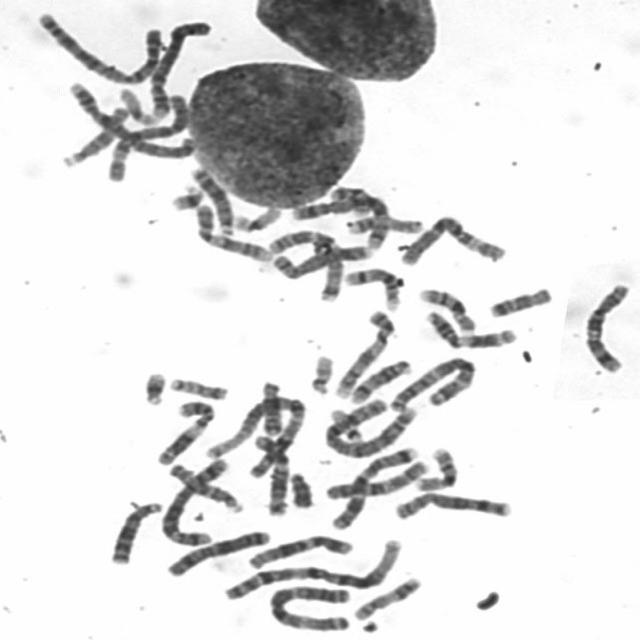A1: (219, 533, 408, 603), (200, 392, 310, 467)
A2: (30, 6, 165, 86), (321, 396, 418, 459)
A3: (384, 351, 481, 413), (264, 580, 354, 633)
B4: (63, 77, 199, 161), (142, 15, 214, 120)
B5: (156, 452, 232, 548), (288, 190, 390, 250)
C10: (578, 277, 634, 375), (320, 455, 432, 502)
C11: (152, 395, 218, 467), (422, 306, 520, 350)
C12: (244, 530, 356, 570), (248, 430, 294, 518)
C6: (103, 88, 193, 184), (394, 211, 511, 268)
C7: (326, 442, 424, 531), (262, 224, 344, 304)
C8: (386, 486, 516, 522), (266, 238, 374, 280)
C9: (330, 306, 398, 400), (190, 200, 276, 263)
D13: (106, 496, 166, 566), (185, 162, 238, 238)
D14: (348, 354, 414, 404), (340, 262, 402, 312)
D15: (57, 101, 132, 168), (165, 458, 246, 514)
E16: (414, 283, 478, 335), (411, 442, 462, 492)
E17: (350, 572, 424, 622), (342, 212, 424, 236)
E18: (485, 282, 556, 319), (258, 377, 284, 437)
F19: (117, 87, 169, 129), (228, 202, 284, 234)
F20: (166, 373, 230, 401), (328, 183, 372, 219)
G21: (166, 180, 207, 212), (138, 367, 169, 407)
G22: (326, 405, 366, 442), (306, 350, 336, 396)
X: (163, 525, 274, 579)
Y: (284, 468, 316, 510)
